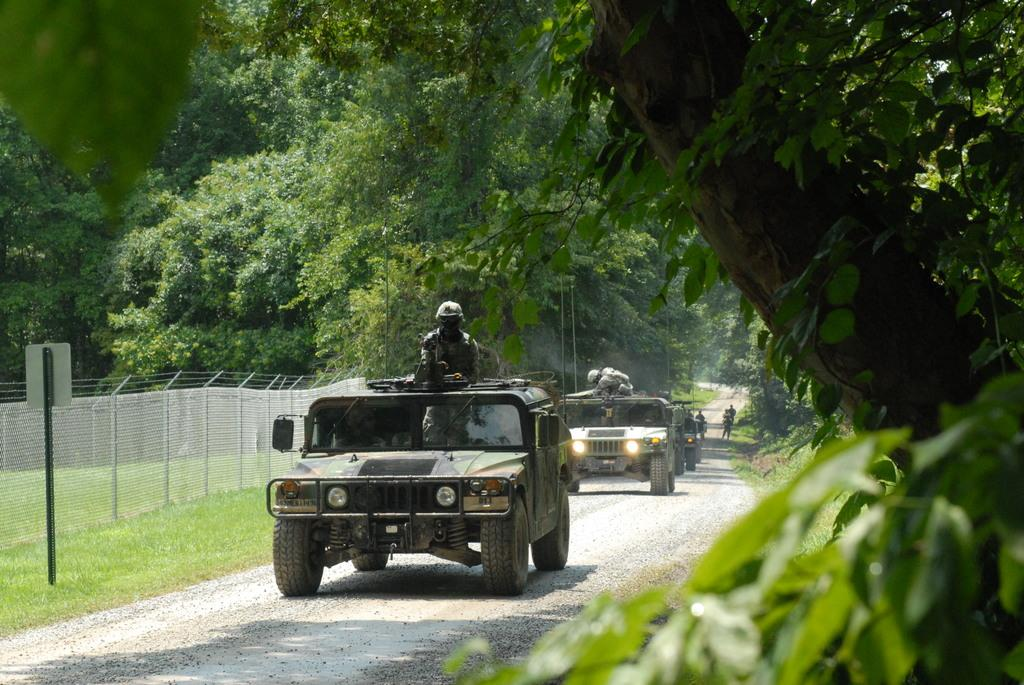non-violence: (414, 302, 480, 451), (588, 366, 630, 424), (722, 404, 737, 439), (686, 406, 703, 420)
weapon: (419, 335, 433, 352)
